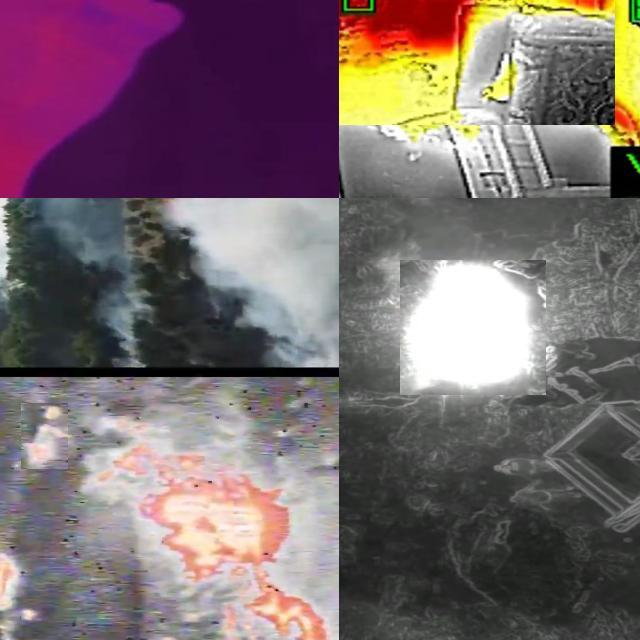fire: (340, 1, 615, 126), (87, 419, 299, 577), (401, 261, 547, 396), (143, 575, 340, 640), (21, 404, 68, 470), (1, 553, 21, 613)
